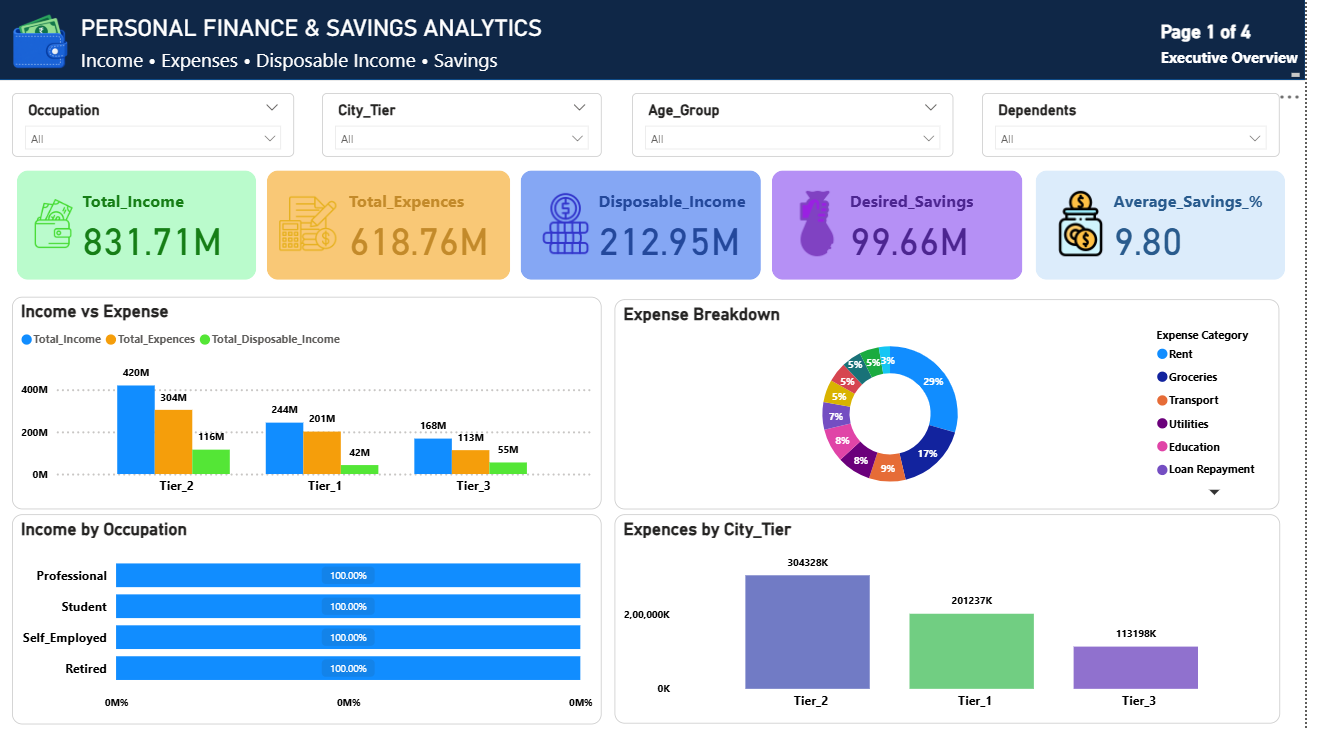

What the dashboard file says about the page in this screenshot:
{"tool":"powerbi","page":{"name":"Overview","canvas":[1280,720],"ordinal":0},"visuals":[{"type":"shape","box":[0,0,1280.3,85.6],"z":0},{"type":"image","box":[0,9.8,80.7,75.8],"z":1000},{"type":"textbox","title":"PERSONAL FINANCE & SAVINGS ANALYTICS","box":[77,20.8,480.6,62.4],"z":2000},{"type":"slicer","fields":{"Values":["Personal_Finance.Occupation"]},"box":[14.7,97.8,276.4,62.4],"z":3000},{"type":"slicer","fields":{"Values":["Personal_Finance.City_Tier"]},"box":[317.9,97.8,273.9,62.4],"z":4000},{"type":"slicer","fields":{"Values":["Personal_Finance.Age"]},"box":[621.2,97.8,314.3,62.4],"z":5000},{"type":"slicer","fields":{"Values":["Personal_Finance.Dependents"]},"box":[963.6,97.8,291,62.4],"z":6000},{"type":"cardVisual","title":"vc","fields":{"Data":["Personal_Finance.Total_Expences"]},"box":[259.2,168.8,248.2,117.4],"z":7000},{"type":"cardVisual","title":"vc","fields":{"Data":["Personal_Finance.Total_Disposable_Income"]},"box":[507.5,168.8,245.8,117.4],"z":8000},{"type":"cardVisual","title":"vc","fields":{"Data":["Personal_Finance.Total_Desired_Savings"]},"box":[753.3,168.8,255.6,117.4],"z":9000},{"type":"cardVisual","fields":{"Data":["Personal_Finance.Total_Income"]},"box":[14.7,168.8,244.6,117.4],"z":10000},{"type":"cardVisual","title":"vc","fields":{"Data":["Personal_Finance.Average_Savings_%"]},"box":[1011.3,168.8,254.3,117.4],"z":11000},{"type":"clusteredColumnChart","title":"Income vs Expense","fields":{"Y":["Personal_Finance.Total_Income","Personal_Finance.Total_Expences","Personal_Finance.Total_Disposable_Income"],"Category":["Personal_Finance.City_Tier"]},"box":[14.7,297.1,577.2,207.9],"z":12000},{"type":"donutChart","title":"Expense Breakdown","fields":{"Category":["Expense Category.Expense Category"],"Y":["Expense Category.Expense Amount"]},"box":[604.1,299.6,650.5,205.4],"z":13000},{"type":"hundredPercentStackedBarChart","title":"Income by Occupation","fields":{"Category":["Personal_Finance.Occupation"],"Y":["Personal_Finance.Total_Income"]},"box":[14.7,509.9,577.2,205.4],"z":14000},{"type":"columnChart","title":"Expences by City_Tier","fields":{"Category":["Personal_Finance.City_Tier"],"Y":["Personal_Finance.Total_Expences"]},"box":[604,510,651,205],"z":15000},{"type":"textbox","title":"Page 1 of 4","box":[1133.6,26.9,145.5,59.9],"z":16000},{"type":"actionButton","box":[1138.5,26.9,140.6,56.3],"z":16001}]}

Visuals, with their boxes in screenshot pixels (x1, y1, x2, y2), scaled from the page's 1280x720 canvas onto the 1317x729 screenshot:
shape: rect(0, 0, 1316, 87)
image: rect(0, 10, 83, 87)
"PERSONAL FINANCE & SAVINGS ANALYTICS" textbox: rect(79, 21, 574, 84)
slicer - Personal_Finance.Occupation: rect(15, 99, 300, 162)
slicer - Personal_Finance.City_Tier: rect(327, 99, 609, 162)
slicer - Personal_Finance.Age: rect(639, 99, 963, 162)
slicer - Personal_Finance.Dependents: rect(991, 99, 1291, 162)
"vc" cardVisual: rect(267, 171, 522, 290)
"vc" cardVisual: rect(522, 171, 775, 290)
"vc" cardVisual: rect(775, 171, 1038, 290)
cardVisual - Personal_Finance.Total_Income: rect(15, 171, 267, 290)
"vc" cardVisual: rect(1041, 171, 1302, 290)
"Income vs Expense" clusteredColumnChart: rect(15, 301, 609, 511)
"Expense Breakdown" donutChart: rect(622, 303, 1291, 511)
"Income by Occupation" hundredPercentStackedBarChart: rect(15, 516, 609, 724)
"Expences by City_Tier" columnChart: rect(621, 516, 1291, 724)
"Page 1 of 4" textbox: rect(1166, 27, 1316, 88)
actionButton: rect(1171, 27, 1316, 84)
